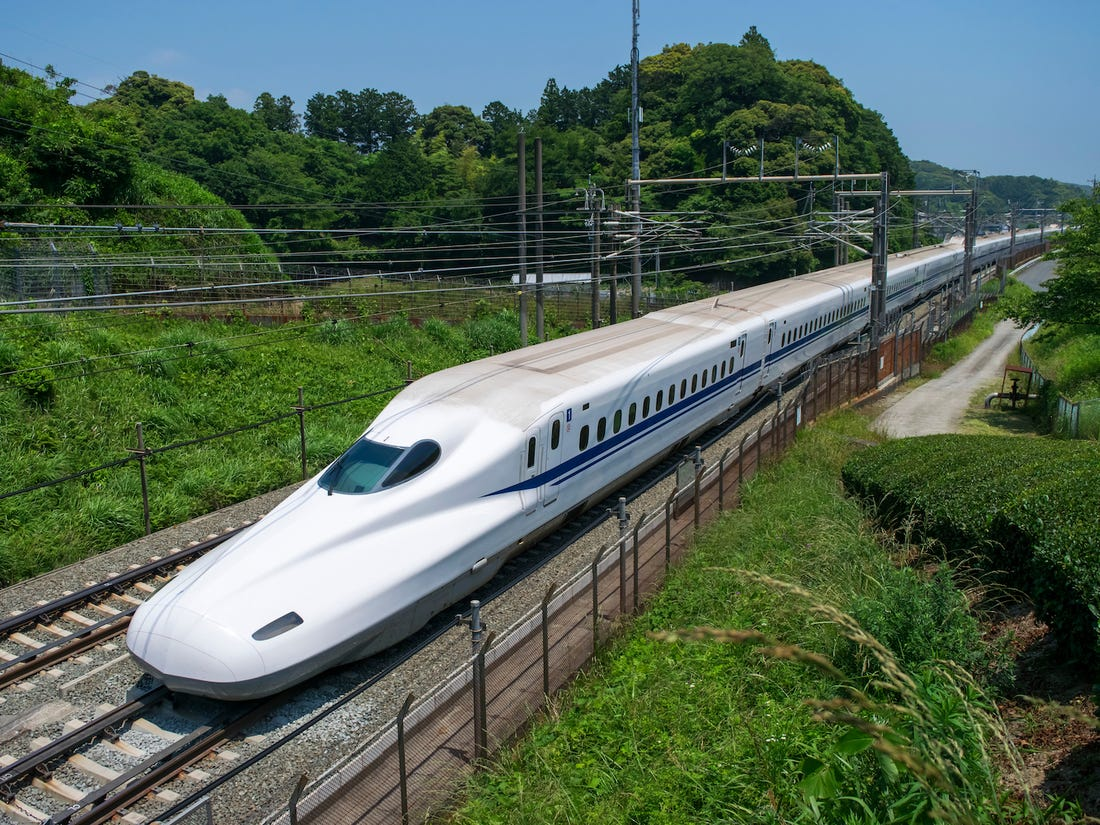train: (120, 165, 1075, 764)
